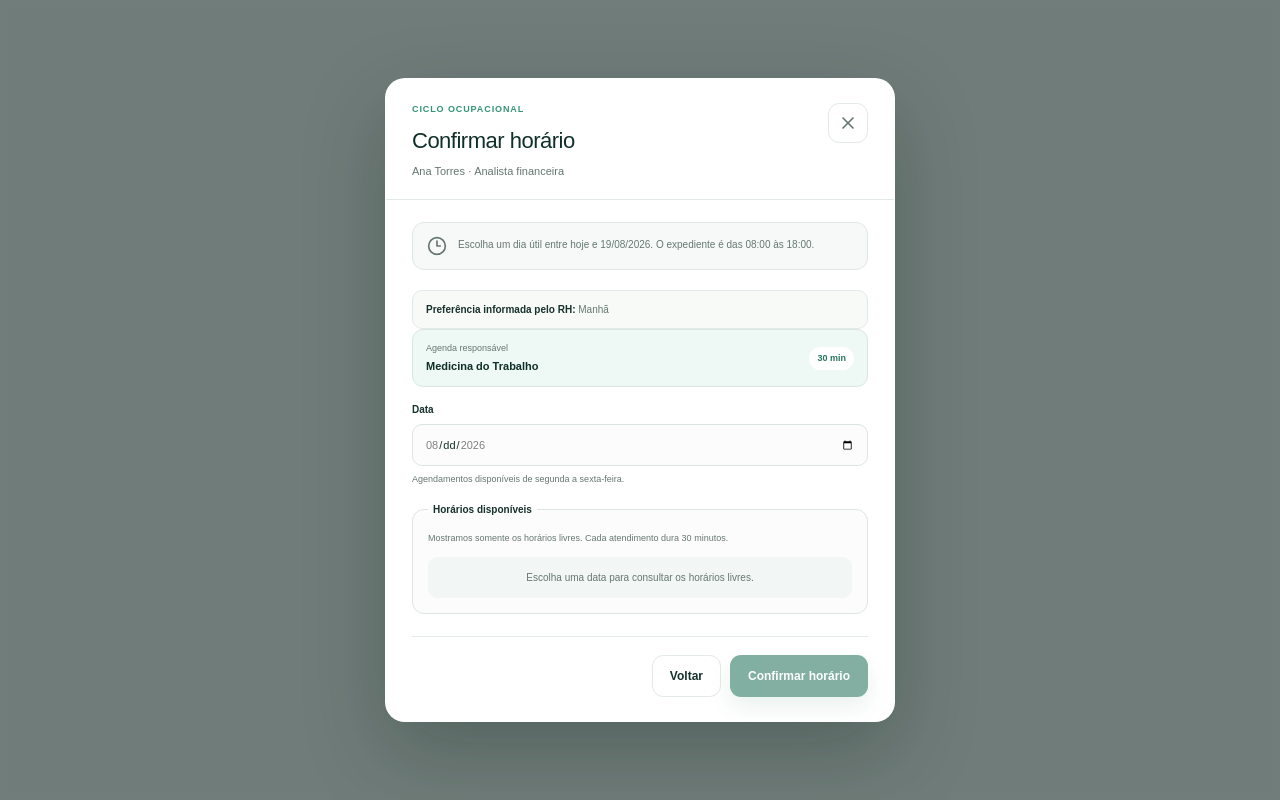
Test: Modal de agendamento da clínica › pré-seleciona a agenda única e mostra horários dentro do expediente
In the date field labelled "Data": (640, 446) [412,424,868,466], type "2026-08-10"
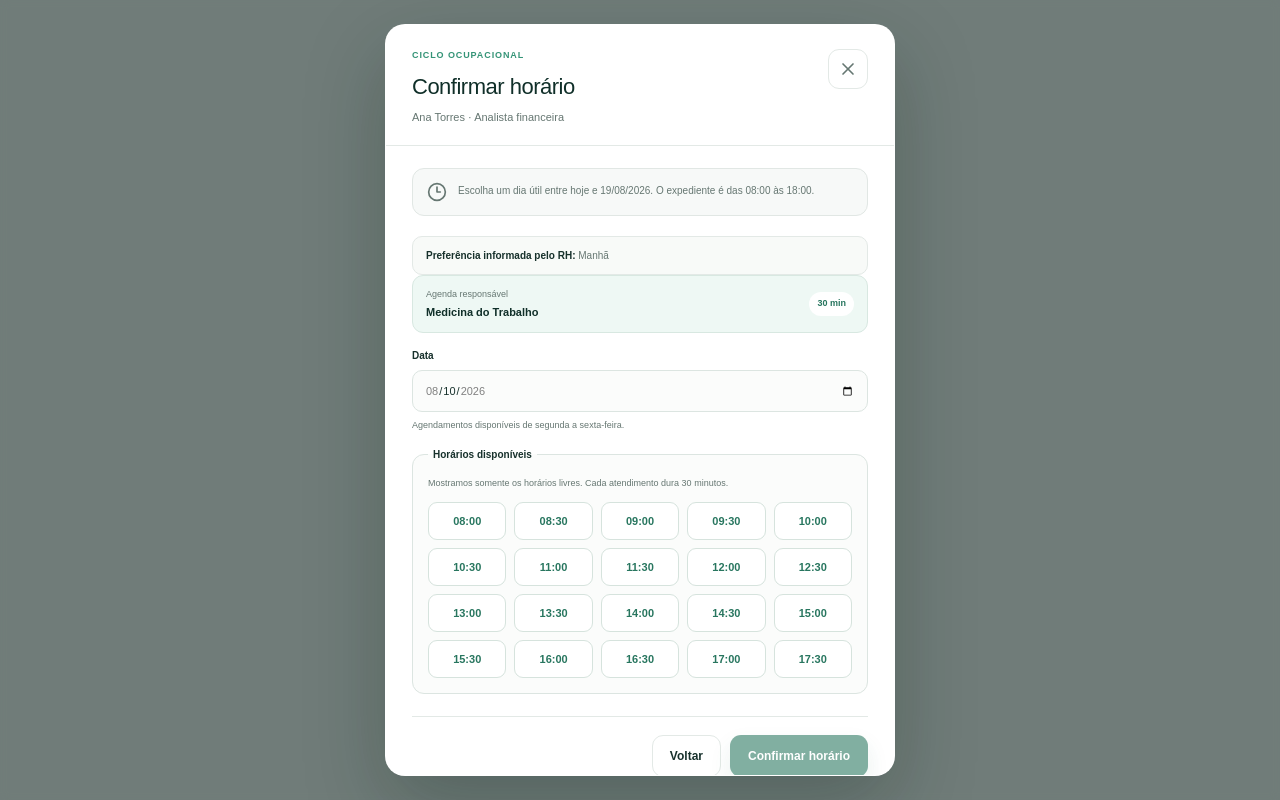
expect the button "08:00" is shown: met, box [428,502,506,540]
expect the button "17:30" is shown: met, box [774,640,852,678]
